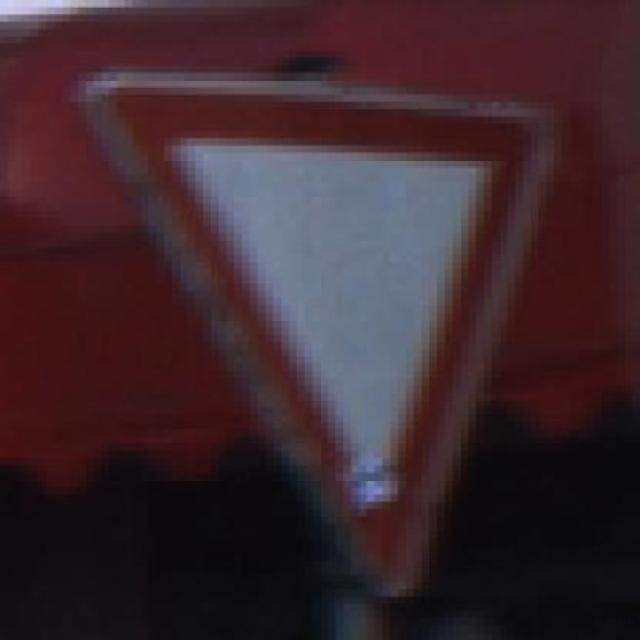Give Way: (76, 51, 599, 611)
